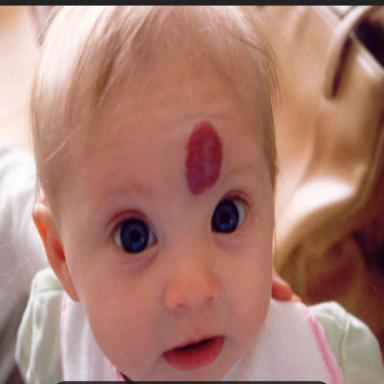Hemangiome: (186, 121, 223, 194)
